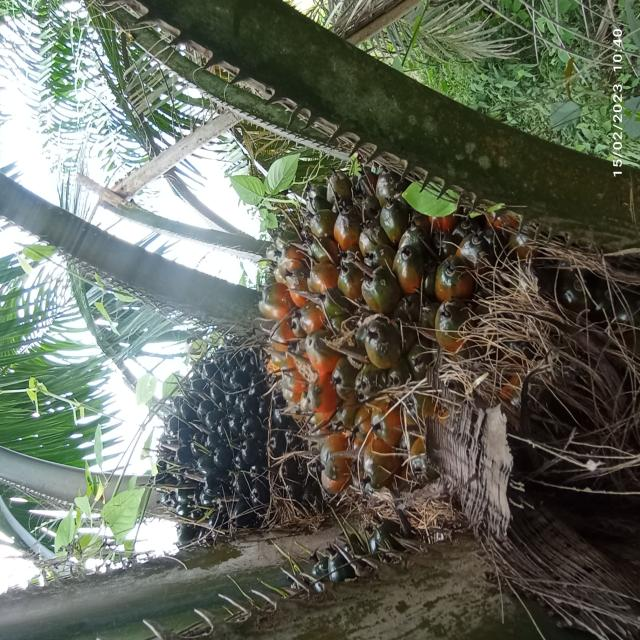fraksi 00: (118, 328, 322, 560)
fraksi 1: (242, 170, 580, 552)
